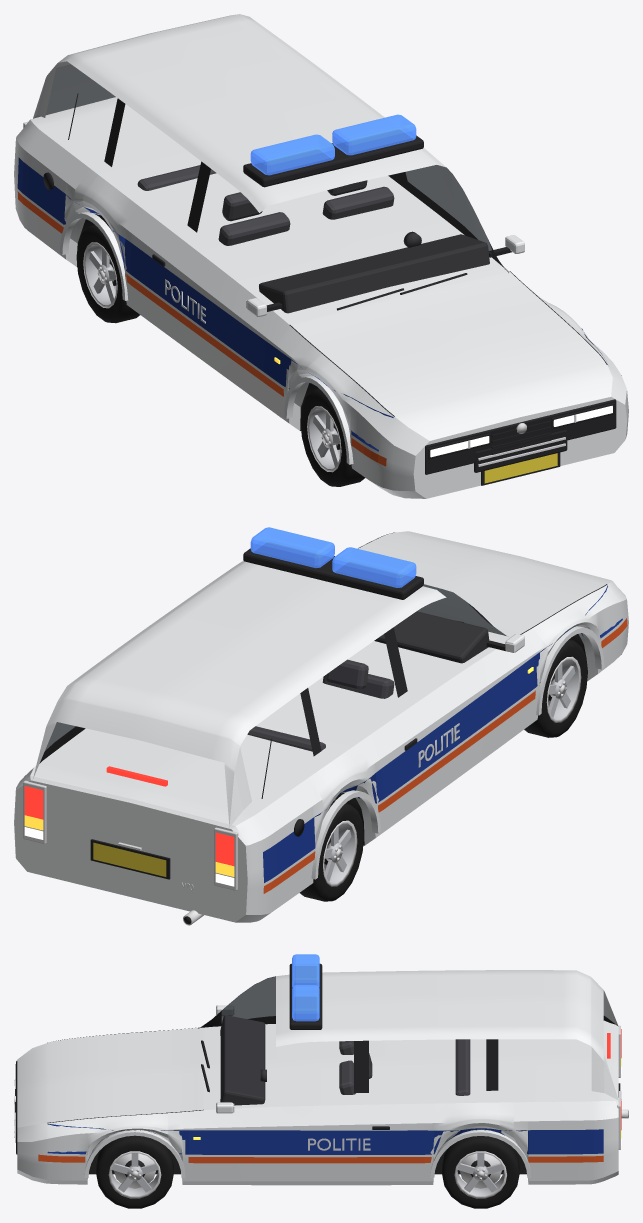
The model's file is police.glb.
3 renders of one model, top to bottom at view 1: azimuth 30°, elevation 25°; view 2: azimuth 150°, elevation 25°; view 3: azimuth 270°, elevation 25°, orthographic. The views are drawn at different scales.
Parts seen in each view (by area): view 1: cabin_roof, tub, hood, nose, door_R, dash, livery_blue, fender_R, quarter_R, cabin_glass, wheel_FR, wheel_RR (+16 smaller); view 2: cabin_roof, tail, tub, hood, door_R, livery_blue, quarter_R, fender_R, wheel_RR, wheel_FR, dash, lightbar (+17 smaller); view 3: cabin_roof, tub, hood, door_L, livery_blue, fender_L, quarter_L, wheel_FL, wheel_RL, nose, dash, tail (+11 smaller).
Boxes of the visible parts, box(x1,y1,x2,y2) form: cabin_roof: box(33, 14, 445, 212); tub: box(39, 106, 509, 324); hood: box(291, 271, 606, 416); nose: box(379, 365, 628, 498); door_R: box(99, 187, 289, 412); dash: box(259, 234, 489, 313); livery_blue: box(17, 157, 607, 451); fender_R: box(273, 325, 394, 493); quarter_R: box(23, 129, 114, 266); cabin_glass: box(33, 64, 494, 256); wheel_FR: box(300, 388, 364, 486); wheel_RR: box(76, 222, 139, 323); cabin_roof: box(33, 561, 446, 827); tail: box(14, 763, 270, 922); tub: box(41, 635, 506, 815); hood: box(358, 532, 605, 639); door_R: box(334, 649, 525, 845); livery_blue: box(263, 585, 622, 882); quarter_R: box(255, 760, 350, 920); fender_R: box(517, 585, 622, 728); wheel_RR: box(300, 800, 363, 901); wheel_FR: box(524, 639, 587, 737); dash: box(374, 611, 489, 663); lightbar: box(243, 543, 423, 599); cabin_roof: box(276, 970, 618, 1100); tub: box(203, 1024, 594, 1109); hood: box(47, 1027, 203, 1122); door_L: box(203, 1103, 474, 1185); livery_blue: box(47, 1123, 603, 1154); fender_L: box(47, 1110, 203, 1184); quarter_L: box(474, 1101, 594, 1184); wheel_FL: box(96, 1135, 173, 1208); wheel_RL: box(442, 1136, 519, 1208); nose: box(17, 1043, 47, 1183); dash: box(220, 1015, 265, 1105); tail: box(594, 1020, 618, 1183).
Bounding box in the file's own units: 1.91 × 1.61 × 4.91.
